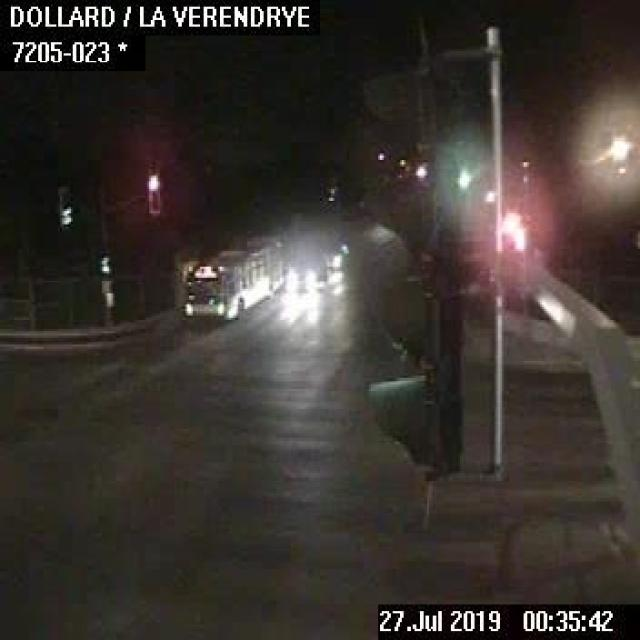bus: (178, 229, 284, 324)
vehicle: (282, 258, 320, 294)
